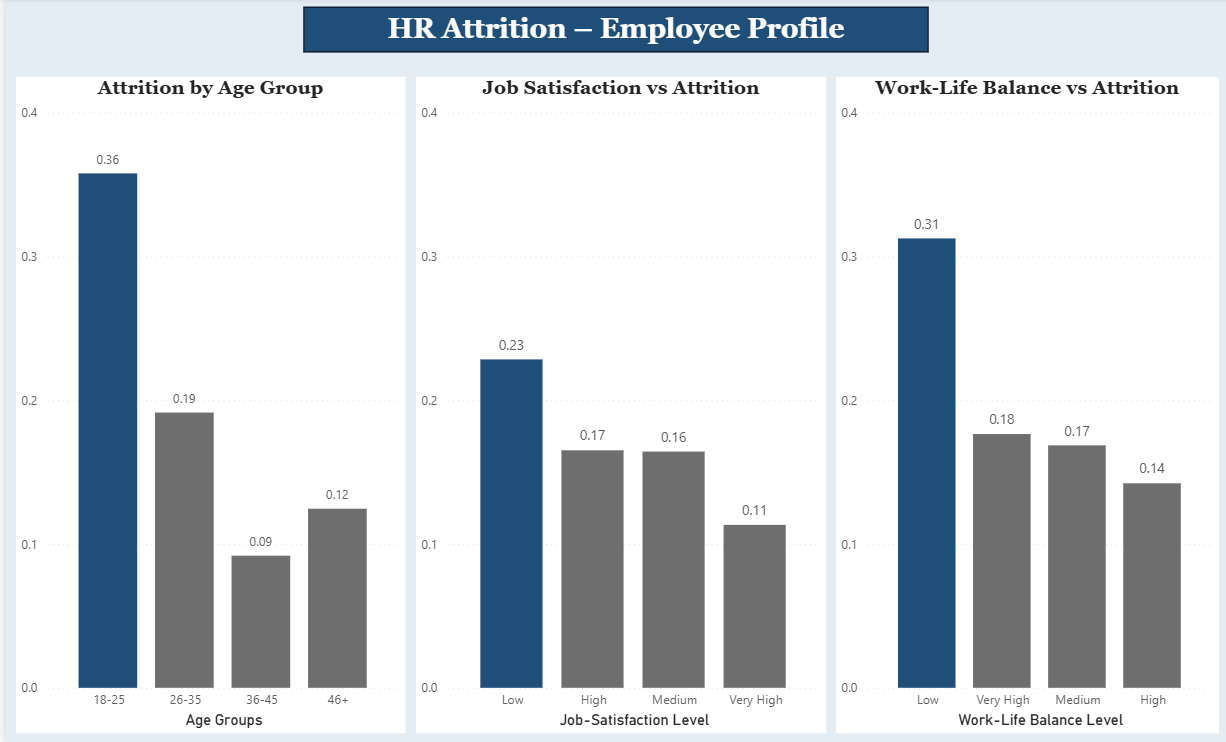

The page's visual inventory and layout, read from the dashboard file:
{"tool":"powerbi","page":{"name":"EMPLOYEE PROFILE & SATISFACTION","canvas":[1180,720],"ordinal":2},"visuals":[{"type":"textbox","box":[287.2,8.9,603.4,44.3],"z":0},{"type":"columnChart","title":"Attrition by Age Group","fields":{"Category":["hr_attrition_fe.AgeGroup"],"Y":["hr_attrition_fe.Attrition Rate"]},"box":[10.1,75.9,375.7,633.8],"z":1000},{"type":"columnChart","title":"Job Satisfaction vs Attrition","fields":{"Y":["hr_attrition_fe.Attrition Rate"],"Category":["hr_attrition_fe.JobSatisfactionLevel"]},"box":[395.9,75.9,395.9,633.8],"z":2000},{"type":"columnChart","title":"Work-Life Balance vs Attrition","fields":{"Y":["hr_attrition_fe.Attrition Rate"],"Category":["hr_attrition_fe.WorkLifeBalanceLevel"]},"box":[800.8,75.9,369.4,633.8],"z":3000}]}

Visuals, with their boxes in screenshot pixels (x1, y1, x2, y2), scaled from the page's 1180x720 canvas onto the 1226x742 screenshot:
textbox: (298,9,925,55)
"Attrition by Age Group" columnChart: (10,78,401,731)
"Job Satisfaction vs Attrition" columnChart: (411,78,823,731)
"Work-Life Balance vs Attrition" columnChart: (832,78,1216,731)
